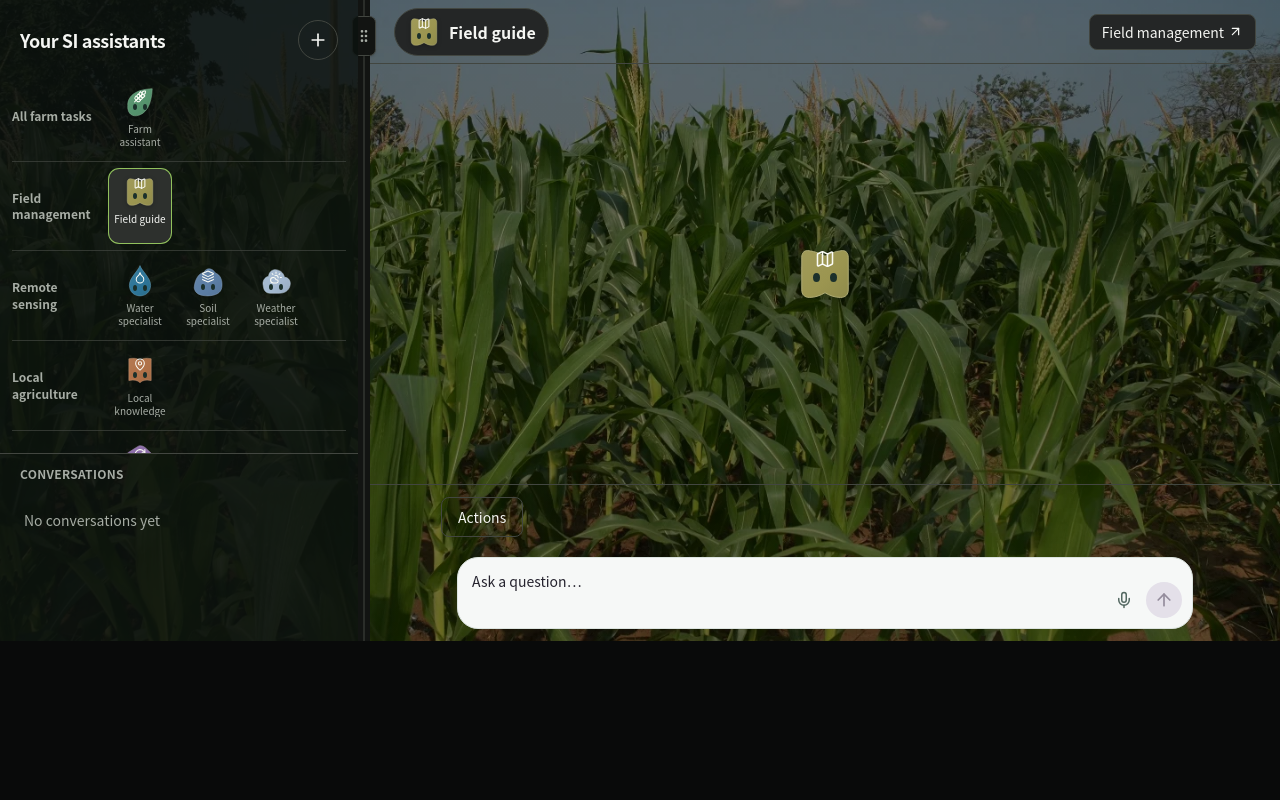
Test case: keeps the first reply when an empty-chat load finishes late
Type "Tell me about my field" into the text box named "Message Field guide". click: (785, 594)
box: top-left (472, 570), bottom-right (1098, 618)
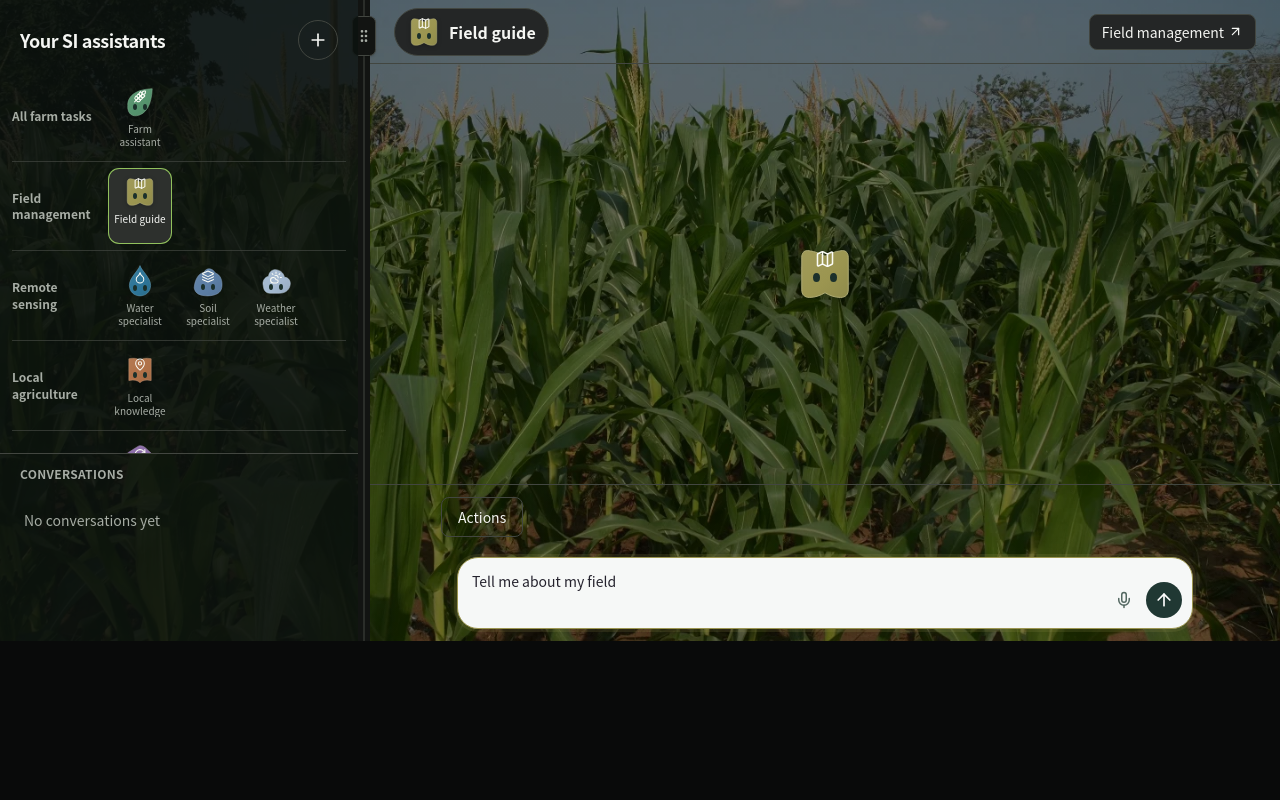
Click the button named "Send message". click: (1164, 600)
box: top-left (1146, 582), bottom-right (1182, 618)
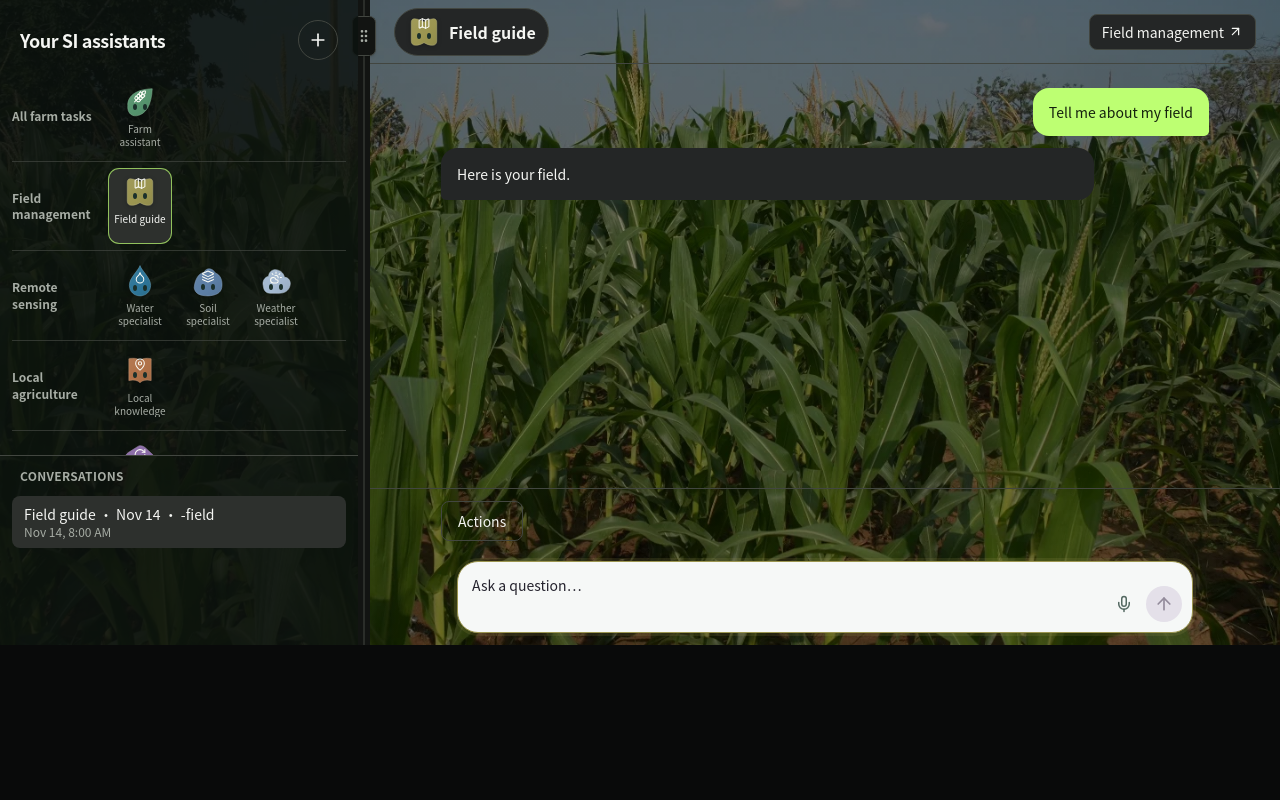
Now the text "Here is your field." is shown, box top-left (457, 164), bottom-right (570, 184)
